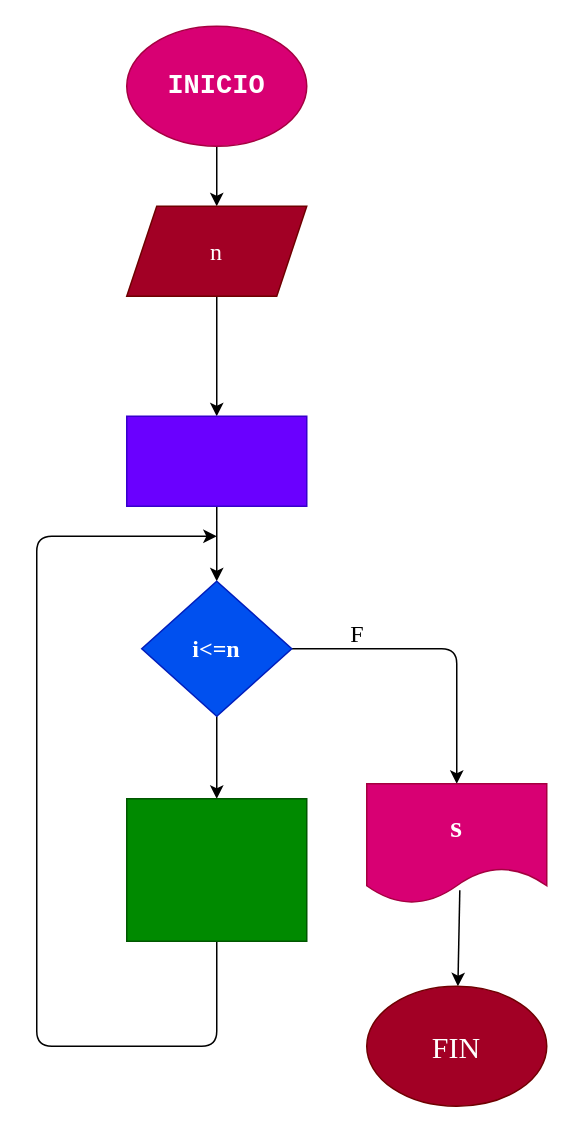
The diagram is 573 pixels wide and 1133 high, and some of its shapes have lost their labels. Here are the shapes that lost their labels. From the top down, the centre of each, then its label:
At point 216,460: "s = 0 i = 1".
At point 216,869: "s = s +i i = i +1".
